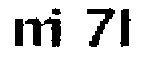7: (78, 5, 116, 49)
i: (51, 5, 69, 52)
l: (117, 7, 136, 50)
m: (12, 18, 57, 52)
